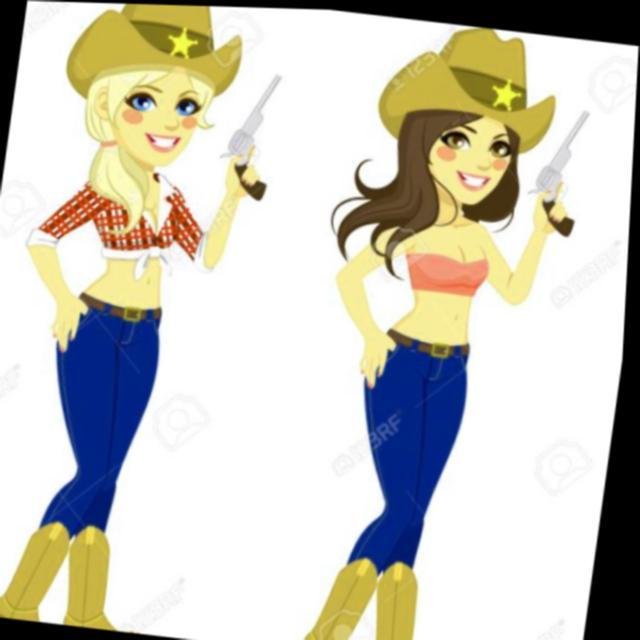weapon: (216, 66, 283, 200), (525, 100, 592, 234)
